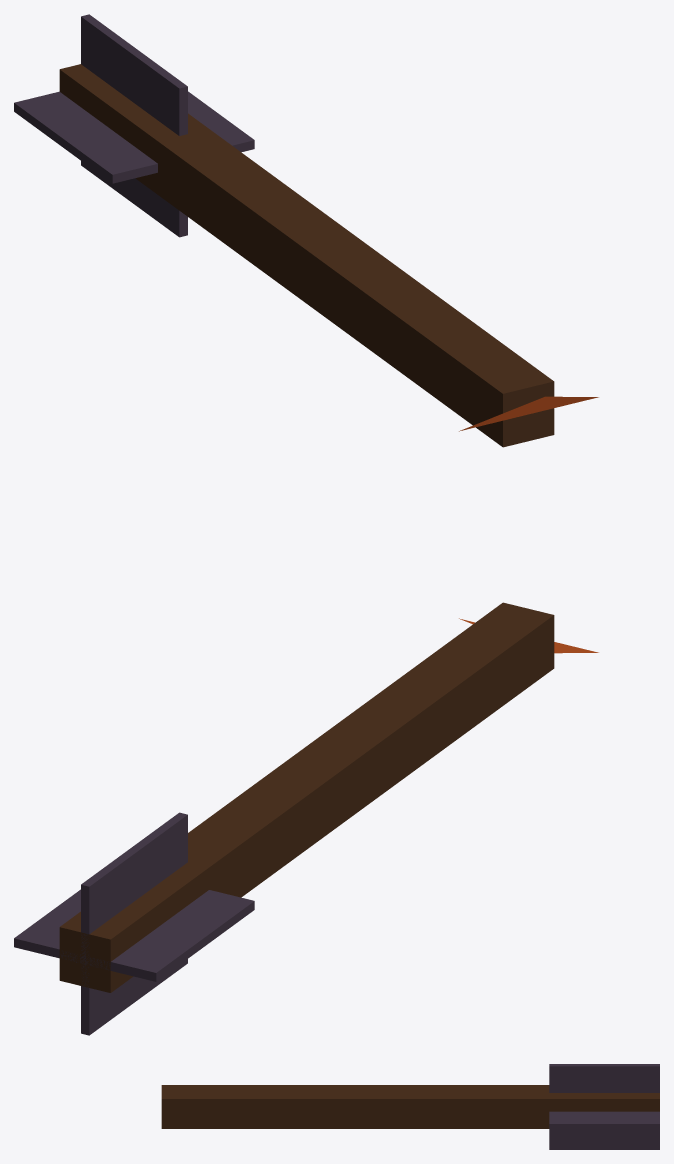
The model's file is ghoul_bolt.glb.
The picture shows the model from 3 angles, top to bottom: view 1: azimuth 30°, elevation 25°; view 2: azimuth 150°, elevation 25°; view 3: azimuth 270°, elevation 25°; orthographic projection. The views are drawn at different scales.
Parts seen in each view (by area): view 1: ghoul_bolt; view 2: ghoul_bolt; view 3: ghoul_bolt.
Boxes of the visible parts, <box> form: ghoul_bolt: <box>14,14,598,447</box>; ghoul_bolt: <box>14,602,598,1035</box>; ghoul_bolt: <box>161,1064,659,1149</box>.
Size of the model in its own units: 0.1 by 0.1 by 0.7.
Materials: 1 (1 with a texture image).
